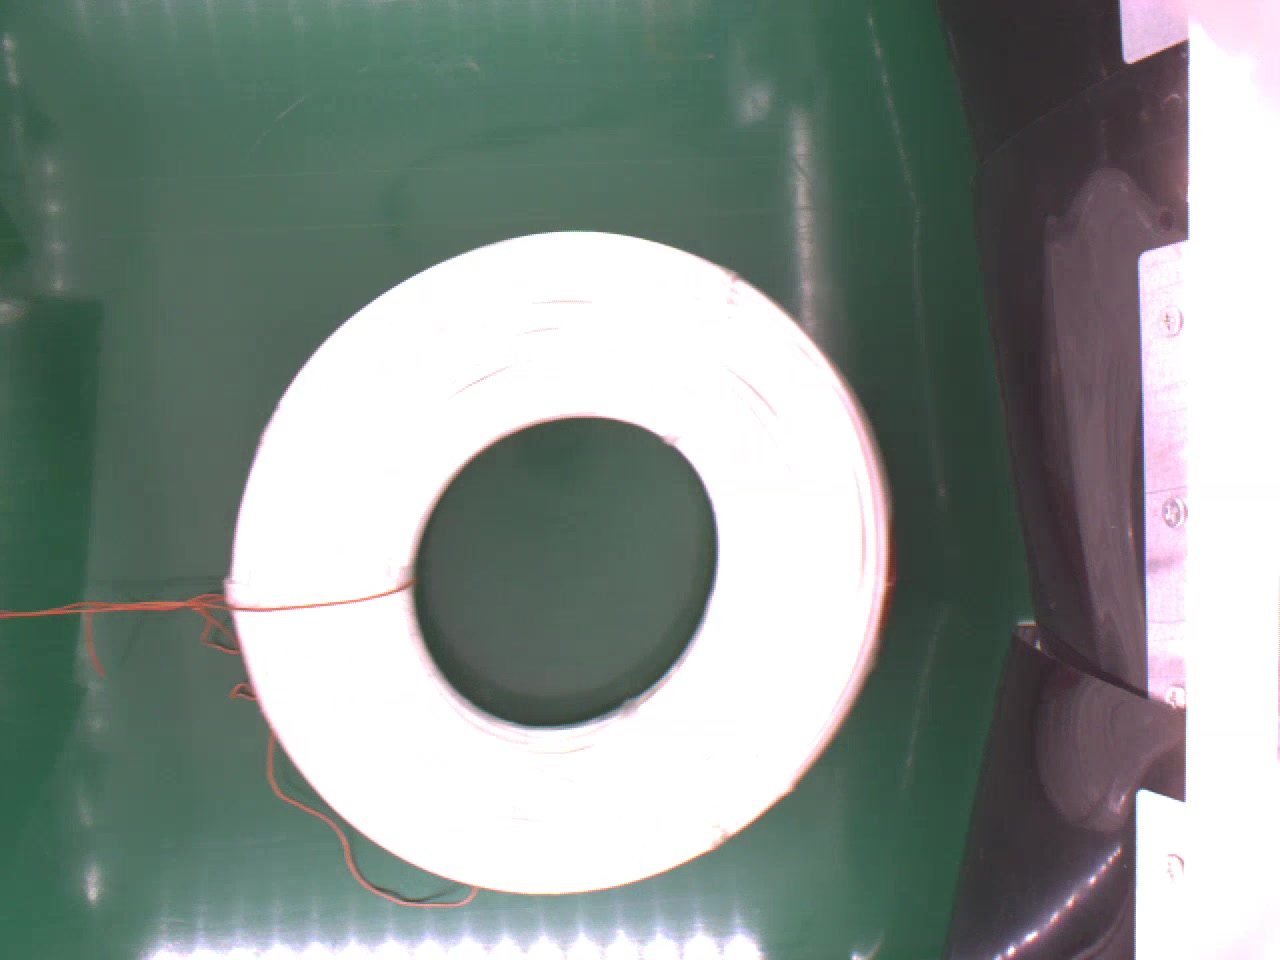white: (228, 221, 896, 892)
